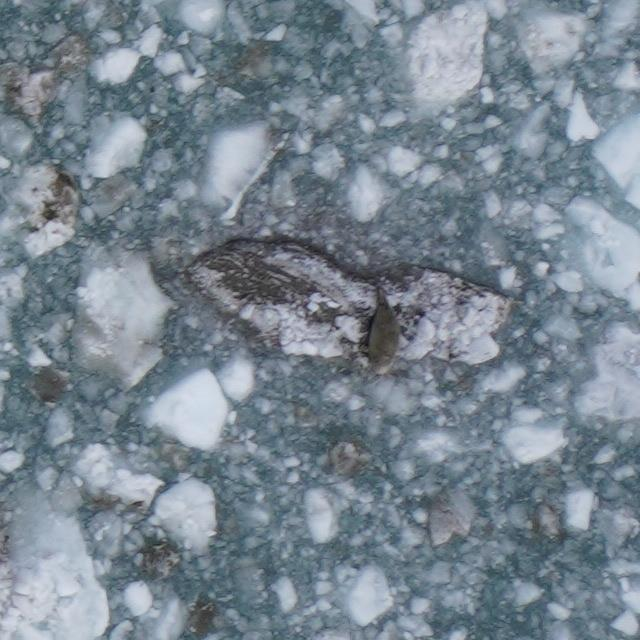seal: (362, 282, 406, 380)
